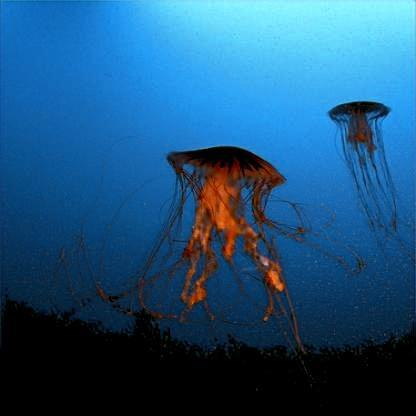Moon: (109, 146, 299, 328), (325, 101, 391, 229)
